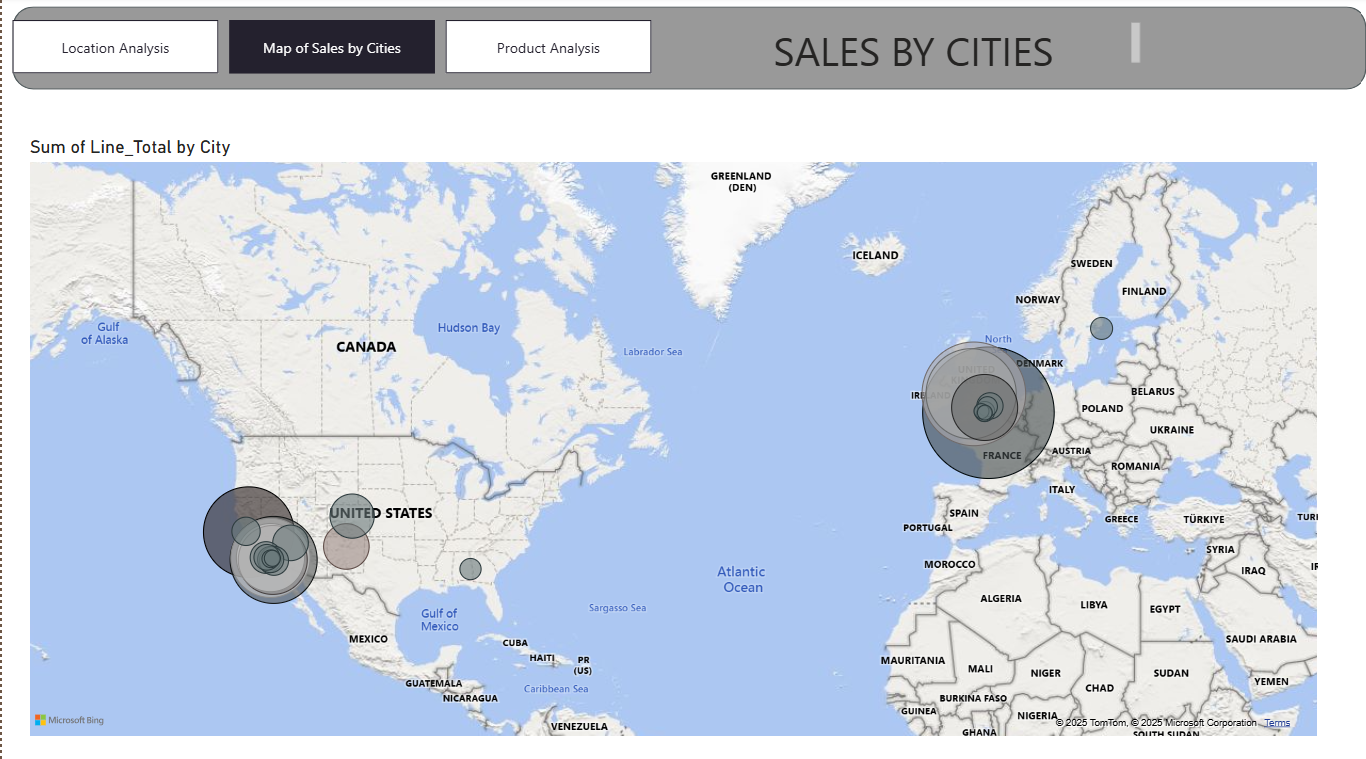

The page's visual inventory and layout, read from the dashboard file:
{"tool":"powerbi","page":{"name":"Map of Sales by Cities","canvas":[1280,720],"ordinal":1},"visuals":[{"type":"shape","box":[10.1,10.1,1270.1,77.8],"z":0},{"type":"map","fields":{"Category":["address.City"],"Size":["Sum(SalesOrderDetail.Line_Total)"]},"box":[21.6,131,1216.8,567.4],"z":1000},{"type":"textbox","box":[645.1,20.2,426.2,53.3],"z":2000},{"type":"pageNavigator","box":[10.1,23,600.5,50.4],"z":3000}]}

Visuals, with their boxes in screenshot pixels (x1, y1, x2, y2), scaled from the page's 1280x720 canvas onto the 1366x759 screenshot:
shape: (left=11, top=11, right=1365, bottom=93)
map - address.City x Sum(SalesOrderDetail.Line_Total): (left=23, top=138, right=1322, bottom=736)
textbox: (left=688, top=21, right=1143, bottom=77)
pageNavigator: (left=11, top=24, right=652, bottom=77)
